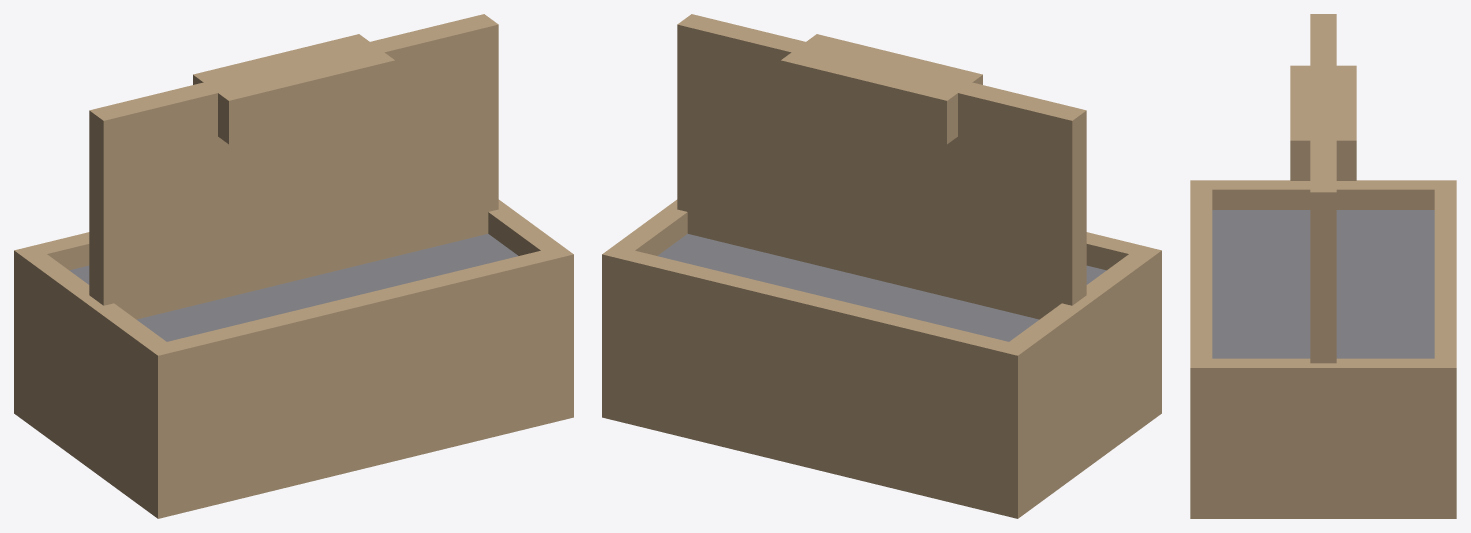
Rendered from prop-nail-box.fbx.
The picture shows the model from 3 angles, left to right: view 1: azimuth 30°, elevation 25°; view 2: azimuth 150°, elevation 25°; view 3: azimuth 270°, elevation 25°; orthographic projection. The views are drawn at different scales.
Visible parts, largest first — view 1: prop-nail-box; view 2: prop-nail-box; view 3: prop-nail-box.
Part boxes in pixels (x1,y1,x2,y2): prop-nail-box: (14,14,573,518); prop-nail-box: (602,14,1161,518); prop-nail-box: (1190,14,1456,518).
Size of the model in its own units: 20 by 16 by 12.
